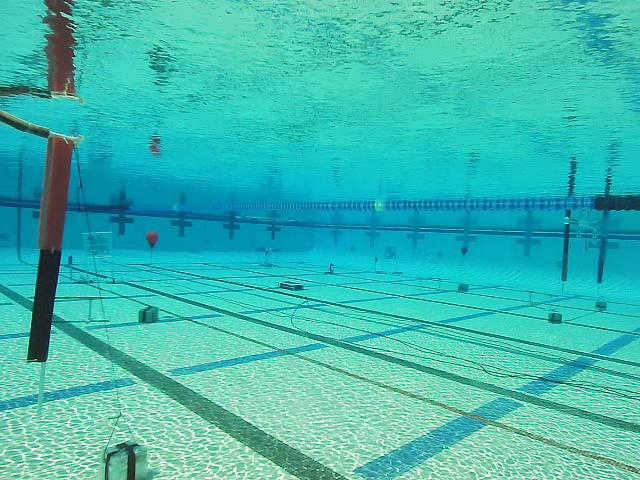buoy: (146, 232, 159, 248)
dropper: (279, 277, 304, 293)
gate_leg_l: (559, 210, 572, 280)
gate_leg_r: (27, 137, 74, 362), (595, 234, 608, 284)
table: (254, 244, 284, 268)
torpedo: (83, 231, 113, 260), (382, 242, 397, 260)
